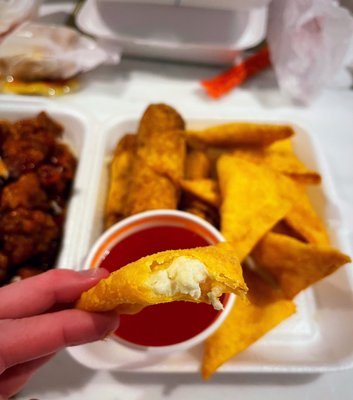sushi: (0, 102, 93, 287), (70, 0, 272, 67)
